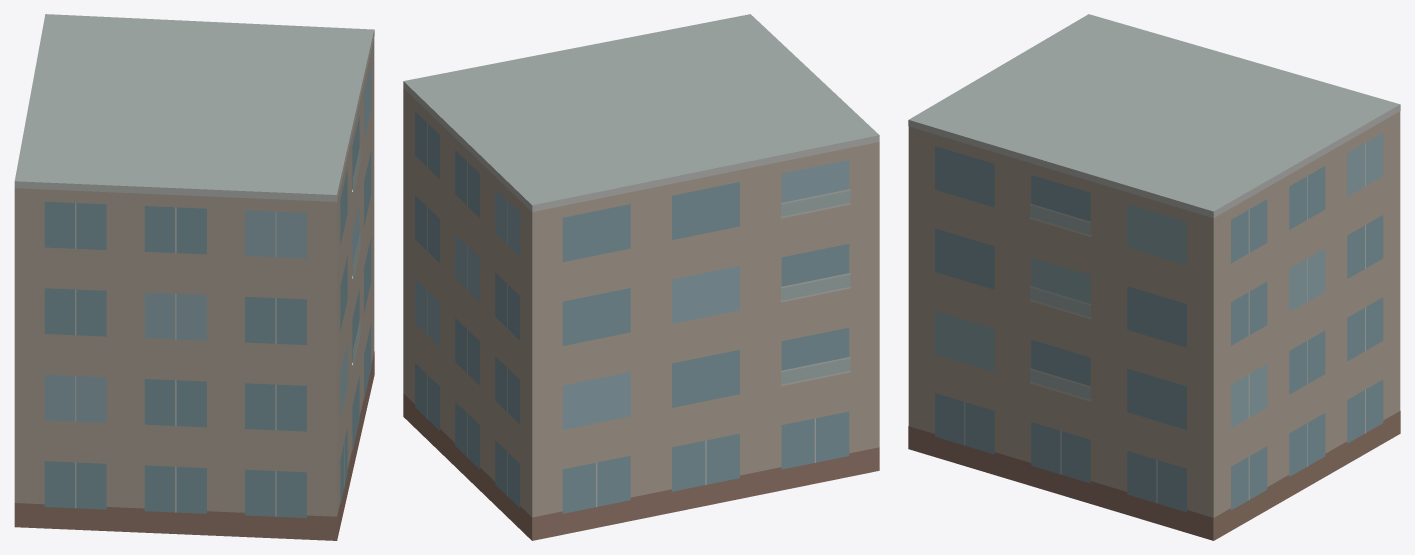
The model's file is survey-upis-32944470.glb.
3 views of the same model, side by side, from view 1: azimuth 30°, elevation 25°; view 2: azimuth 150°, elevation 25°; view 3: azimuth 270°, elevation 25° (orthographic). The views are drawn at different scales.
Parts seen in each view (by area): view 1: survey-upis-32944470.tmp; view 2: survey-upis-32944470.tmp; view 3: survey-upis-32944470.tmp.
Boxes of the visible parts, x1,y1,x2,y2 form: survey-upis-32944470.tmp: [14, 14, 374, 540]; survey-upis-32944470.tmp: [403, 14, 879, 540]; survey-upis-32944470.tmp: [908, 14, 1400, 540].
Size of the model in its own units: 15.71 by 12.2 by 16.53.
